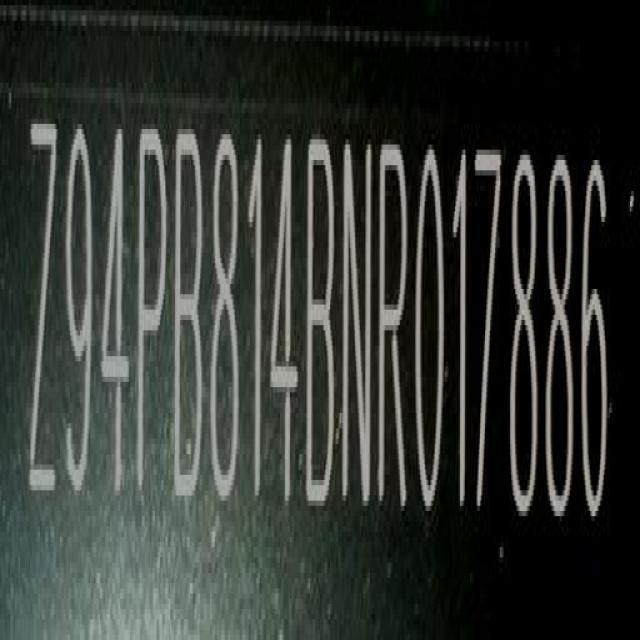0: (414, 142, 448, 519)
1: (450, 144, 472, 520), (250, 131, 268, 514)
4: (99, 117, 134, 505), (270, 130, 301, 514)
6: (582, 161, 614, 523)
7: (473, 140, 502, 522)
8: (210, 128, 244, 508), (510, 146, 541, 522), (546, 152, 576, 524)
9: (63, 118, 95, 508)
B: (306, 132, 341, 515), (174, 123, 207, 510)
N: (344, 133, 377, 516)
P: (133, 119, 168, 511)
R: (380, 140, 413, 519)
Z: (24, 106, 61, 513)
